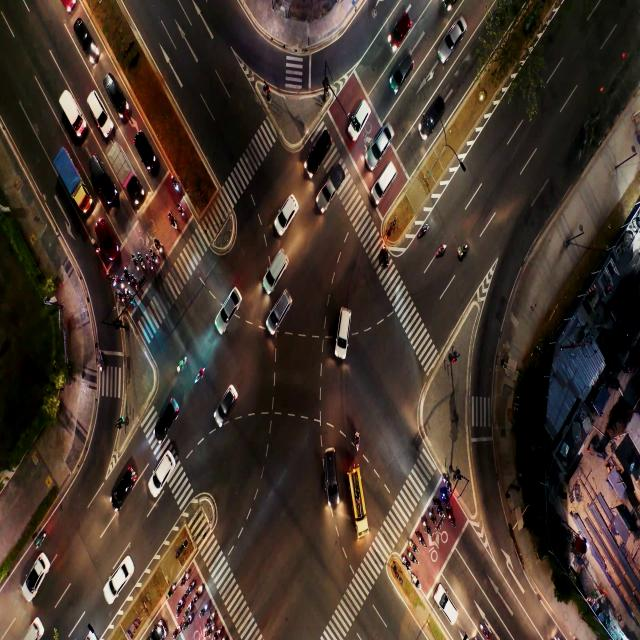bus: (349, 484, 368, 524)
car: (111, 460, 132, 510), (106, 558, 128, 598), (373, 167, 395, 204), (76, 24, 100, 57), (443, 17, 463, 56), (372, 122, 391, 163), (156, 445, 173, 490), (421, 95, 443, 128), (161, 394, 178, 430), (269, 294, 289, 322), (441, 581, 454, 624), (309, 131, 325, 165), (327, 448, 338, 496), (335, 312, 350, 346), (397, 52, 412, 86), (27, 560, 42, 594), (139, 130, 152, 166), (223, 291, 238, 321), (109, 80, 125, 108), (92, 166, 109, 192), (267, 254, 285, 277), (92, 98, 106, 126), (354, 103, 369, 127), (220, 388, 235, 412), (102, 224, 115, 251), (394, 18, 409, 39), (282, 197, 293, 223)
motorcycle: (177, 354, 189, 371), (91, 237, 101, 254), (196, 579, 203, 600), (418, 224, 427, 240), (36, 532, 45, 548), (167, 214, 177, 228), (354, 432, 361, 450), (196, 368, 205, 382), (98, 352, 104, 373), (437, 244, 446, 257), (167, 584, 175, 598), (176, 600, 184, 614), (401, 558, 412, 568), (410, 540, 419, 552), (383, 247, 389, 265), (172, 176, 180, 189), (156, 239, 164, 252), (178, 205, 185, 219), (187, 581, 194, 595), (459, 244, 467, 256), (413, 575, 420, 587), (185, 600, 191, 614), (216, 626, 224, 636), (443, 493, 450, 504), (181, 573, 188, 584), (201, 602, 207, 614), (207, 612, 213, 624), (418, 532, 425, 542), (117, 290, 124, 300), (183, 618, 190, 628), (172, 629, 179, 638), (449, 512, 454, 524), (424, 524, 430, 534), (126, 292, 132, 302), (133, 277, 138, 288), (153, 249, 157, 262), (437, 504, 442, 514), (411, 552, 416, 562), (432, 512, 436, 524), (134, 258, 138, 270), (206, 629, 214, 635), (140, 254, 144, 265), (446, 477, 450, 487), (148, 258, 152, 268), (119, 280, 124, 288), (110, 277, 114, 286), (126, 270, 129, 280)
truck: (62, 149, 77, 191), (118, 148, 134, 185), (327, 170, 345, 198), (65, 95, 78, 122)
